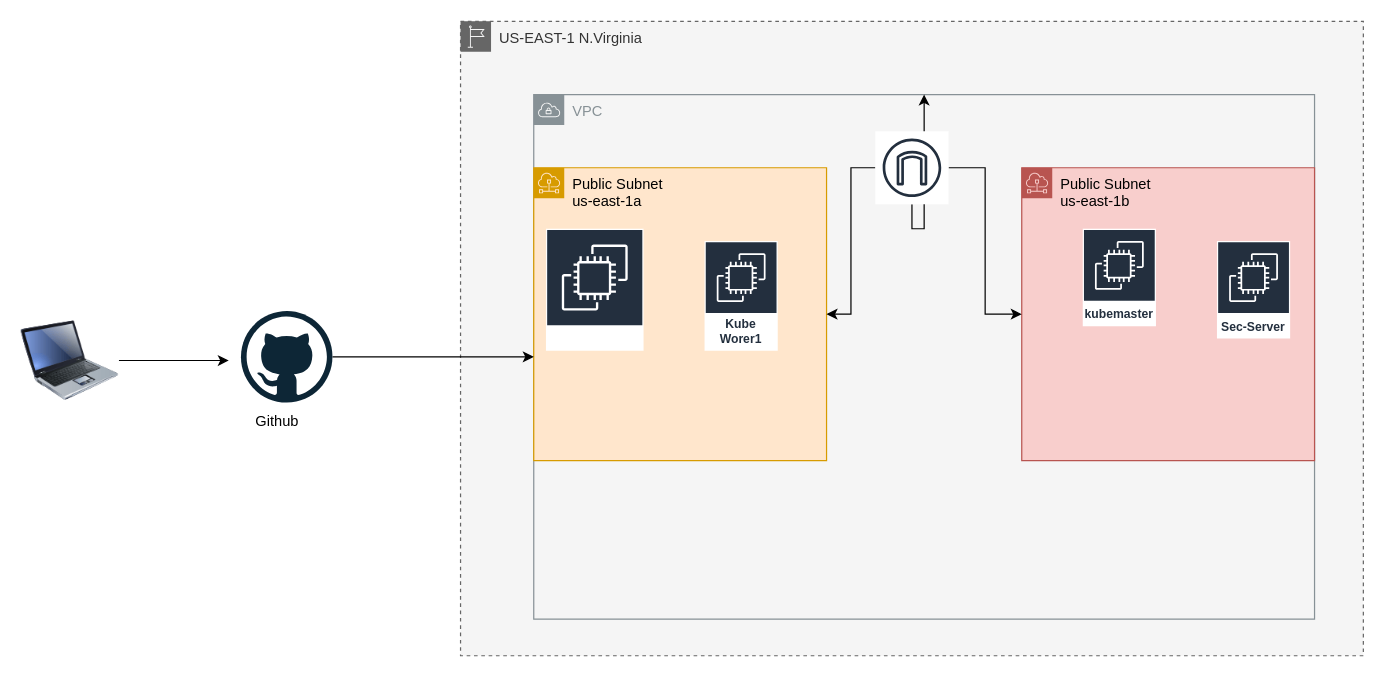
The diagram is 1385 pixels wide and 677 high, and some of its shapes have lost their labels. The centre of each missing label's shape, as x and y in pixels:
"Client" belongs at point (69, 360).
"Internet gateway" belongs at point (911, 167).
"Jenkins" belongs at point (594, 289).
